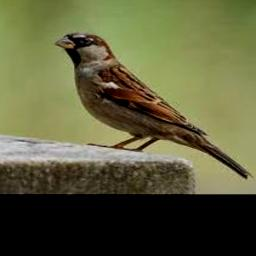Sparrow: (55, 33, 254, 179)
